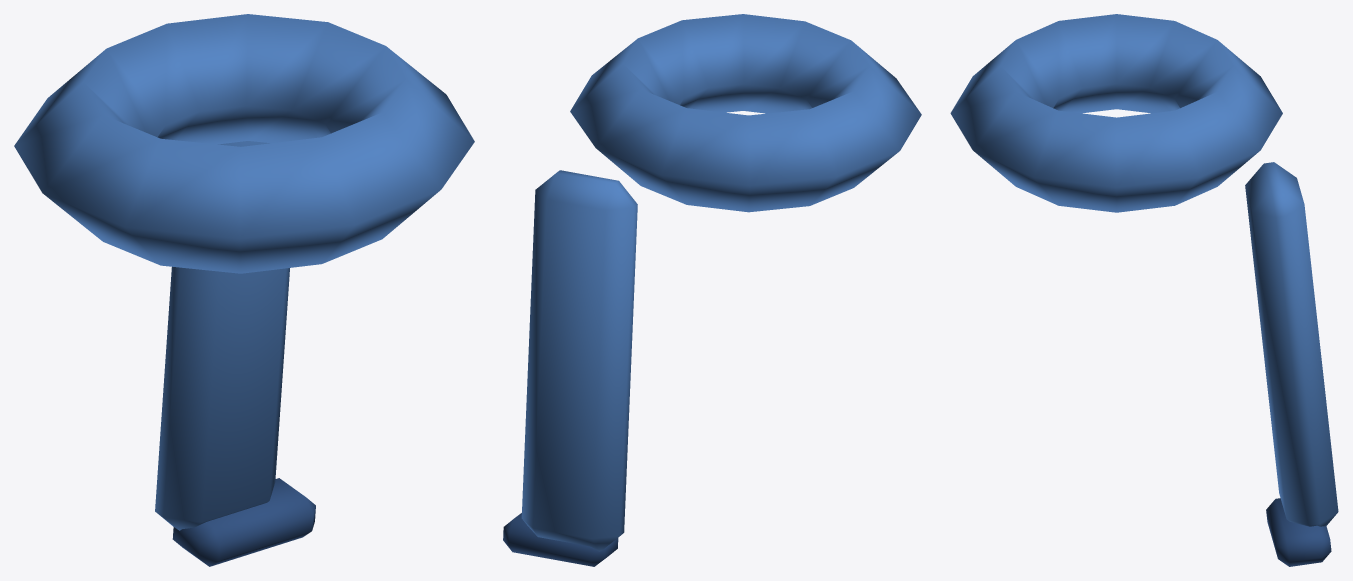
File: acc_scarf.glb
The picture shows the model from 3 angles, left to right: view 1: azimuth 30°, elevation 25°; view 2: azimuth 150°, elevation 25°; view 3: azimuth 270°, elevation 25°; orthographic projection. The views are drawn at different scales.
Visible parts, largest first — view 1: Body; view 2: Body; view 3: Body.
Boxes of the visible parts, x1,y1,x2,y2 form: Body: (14, 14, 474, 566); Body: (503, 14, 921, 566); Body: (950, 14, 1338, 566).
Bounding box in the file's own units: 0.2 × 0.2759 × 0.2217.
